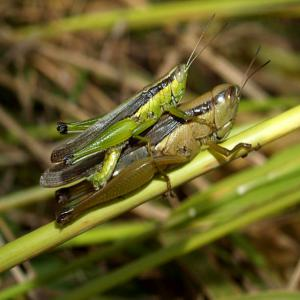locust: (54, 84, 244, 199), (53, 45, 204, 159)
